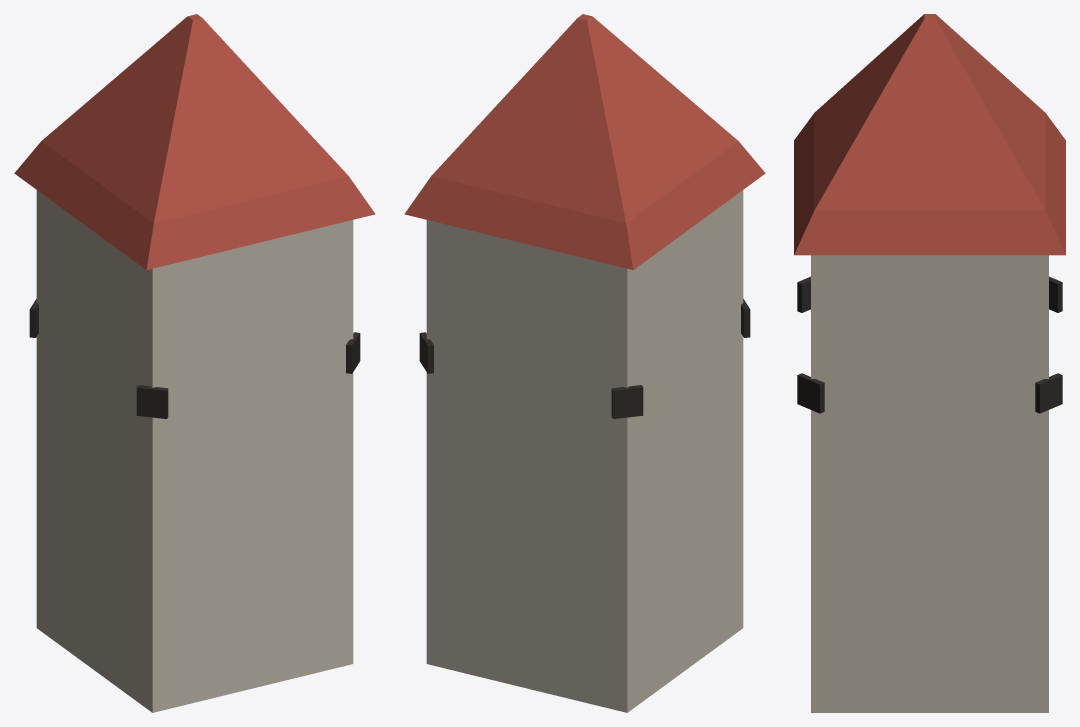
The model's file is Dovecote__Tower.fbx.
3 views of the same model, side by side, from view 1: azimuth 30°, elevation 25°; view 2: azimuth 150°, elevation 25°; view 3: azimuth 270°, elevation 25° (orthographic). The views are drawn at different scales.
Visible parts, largest first — view 1: Dovecote__Tower; view 2: Dovecote__Tower; view 3: Dovecote__Tower.
Boxes of the visible parts, x1,y1,x2,y2 form: Dovecote__Tower: (14, 14, 375, 712); Dovecote__Tower: (404, 14, 765, 712); Dovecote__Tower: (794, 14, 1065, 712).
Size of the model in its own units: 170 by 445 by 170.
1 material, 1 textured.
